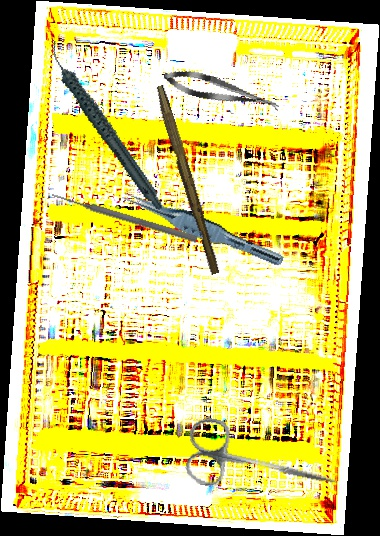Handpiece: (46, 25, 165, 227)
Iris Scissors: (179, 414, 346, 513)
Micro Scissor: (160, 64, 283, 118)
Pusher: (50, 190, 199, 244)
Scalpel Handle: (150, 84, 224, 276)
Tissue Forceps: (118, 187, 288, 268)
